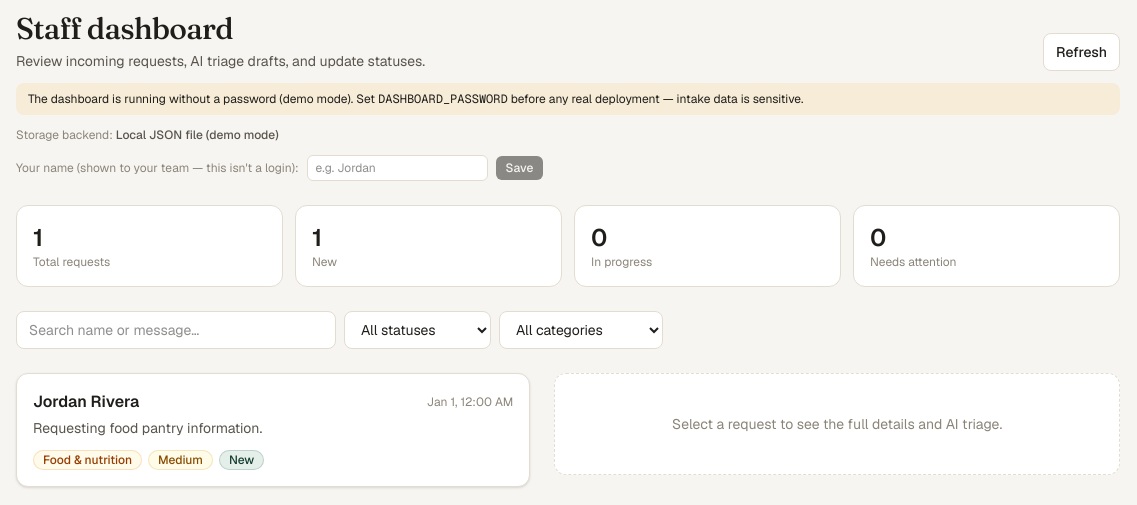
Test: Dashboard staff name › prompts for a display name and remembers it
Step 1. Type "Jordan" into the field labelled "Your name (shown to your team — this isn't a login):" → (397, 168), box [307,155,488,181]
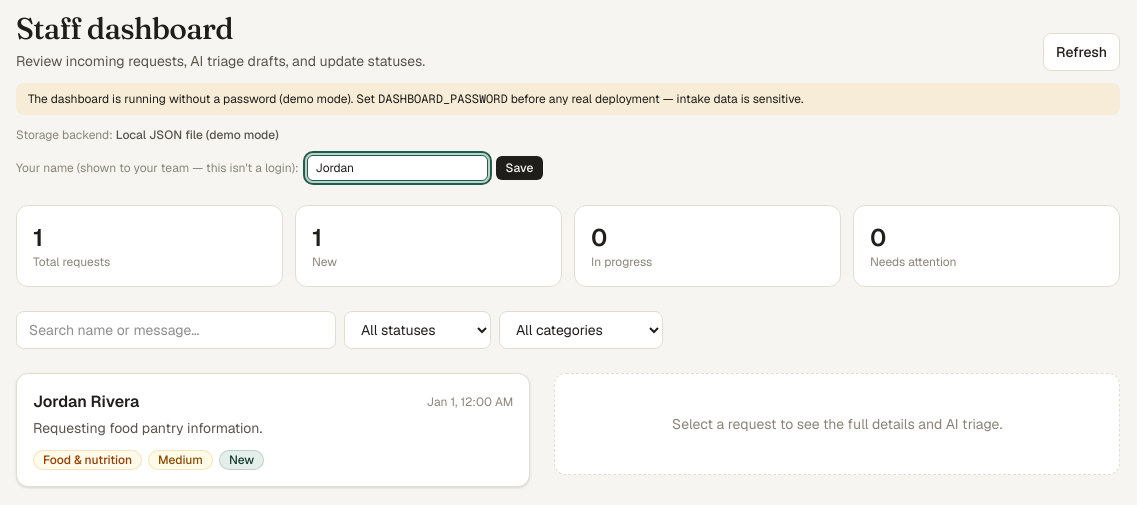
Step 2. Click the button "Save" → (519, 168), box [496,156,543,180]
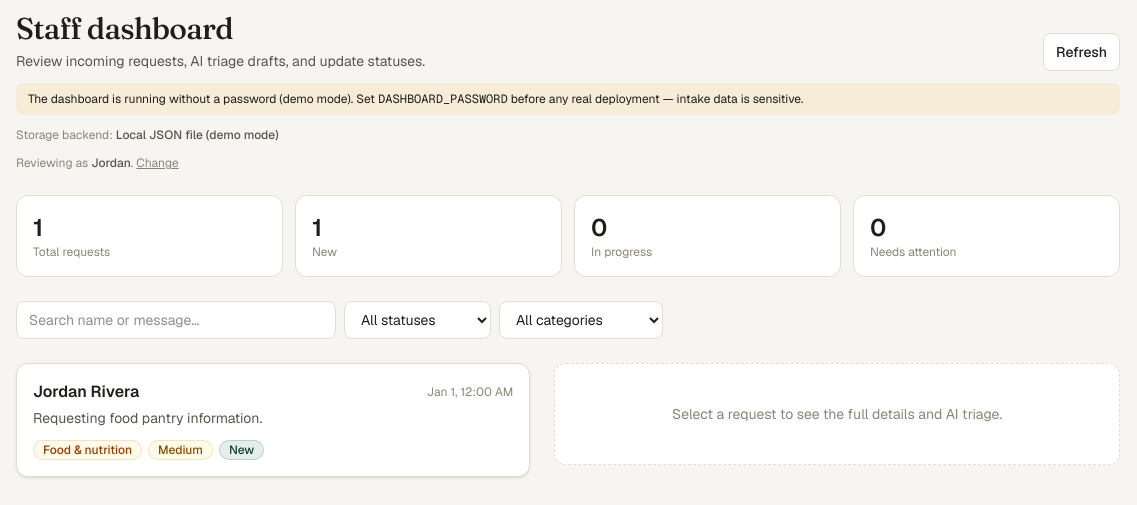
Expected: the text "Reviewing as Jordan. Change" is shown, [16,155,179,171]
Expected: the text "Jordan" is shown, [91,155,131,171]
